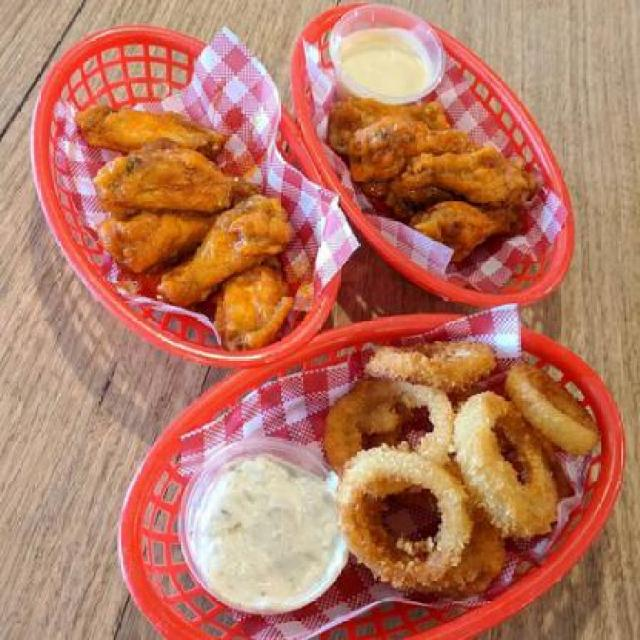chicken wings: (65, 50, 568, 347)
onion rings: (312, 348, 614, 603)
